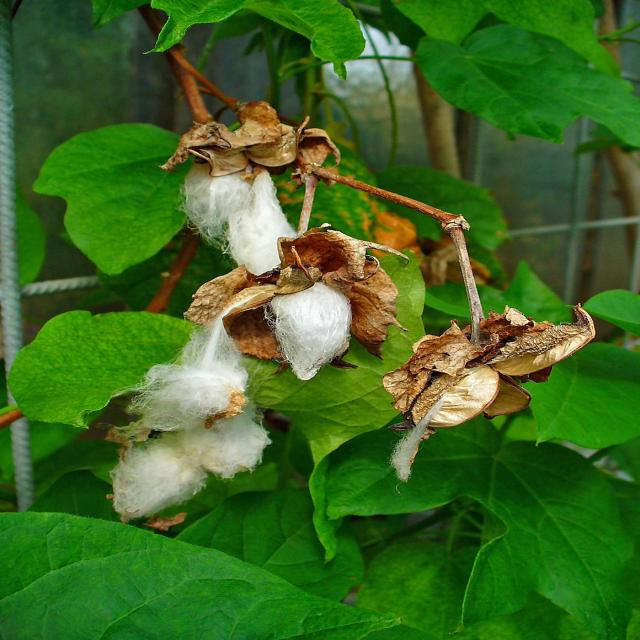Leaf: (101, 258, 285, 530), (166, 90, 362, 308), (252, 270, 358, 393)
